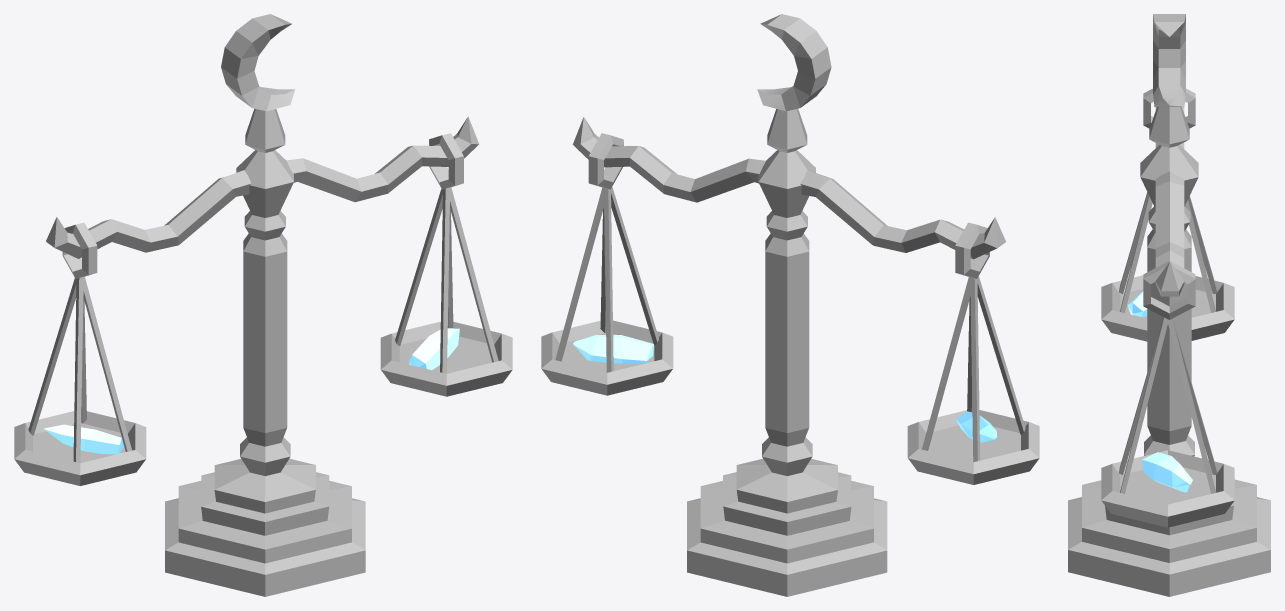
Rendered from SM_Prop_Scales_01.fbx.
3 renders of one model, left to right at view 1: azimuth 30°, elevation 25°; view 2: azimuth 150°, elevation 25°; view 3: azimuth 270°, elevation 25°, orthographic.
Visible parts, largest first — view 1: SM_Prop_Scales_01; view 2: SM_Prop_Scales_01; view 3: SM_Prop_Scales_01.
Boxes of the visible parts, x1,y1,x2,y2 form: SM_Prop_Scales_01: [14, 14, 512, 596]; SM_Prop_Scales_01: [541, 14, 1039, 596]; SM_Prop_Scales_01: [1068, 14, 1270, 596].
Size of the model in its own units: 83.5 by 84.14 by 29.08.
